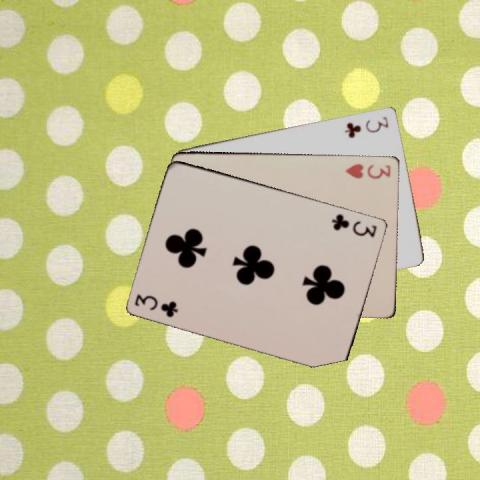3c: (329, 210, 379, 238), (132, 290, 180, 318), (342, 114, 390, 140)
3h: (343, 161, 392, 180)
